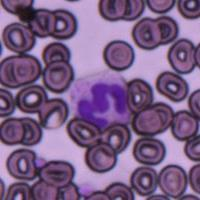N: (70, 70, 130, 130)
